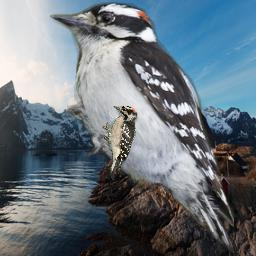Woodpecker: (50, 2, 234, 253), (102, 106, 138, 180)
